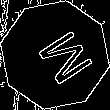M_SW: (21, 22, 89, 88)
